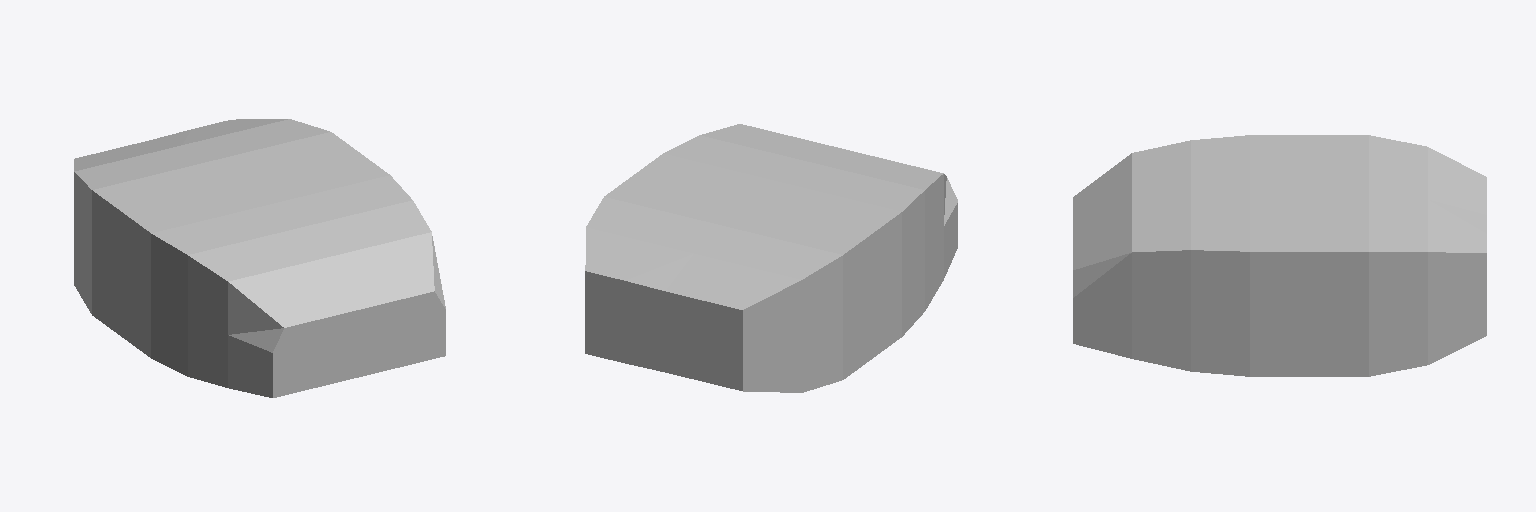
File: Mouse.obj
3 views of the same model, side by side, from view 1: azimuth 30°, elevation 25°; view 2: azimuth 150°, elevation 25°; view 3: azimuth 270°, elevation 25° (orthographic).
Visible parts, largest first — view 1: Mouse; view 2: Mouse; view 3: Mouse.
Boxes of the visible parts, box(x1,y1,x2,y2) form: Mouse: box(74, 119, 445, 397); Mouse: box(585, 124, 957, 392); Mouse: box(1073, 135, 1486, 376).
Bounding box in the file's own units: 2000 × 1000 × 3000.